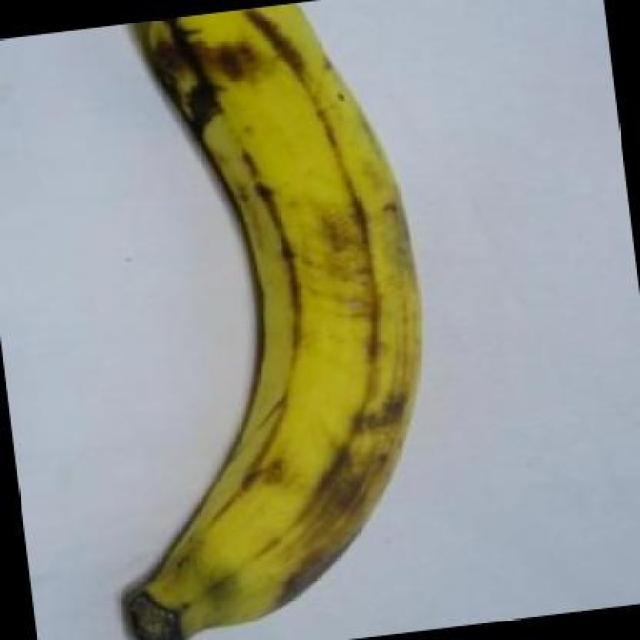Overripe: (59, 0, 421, 640)
